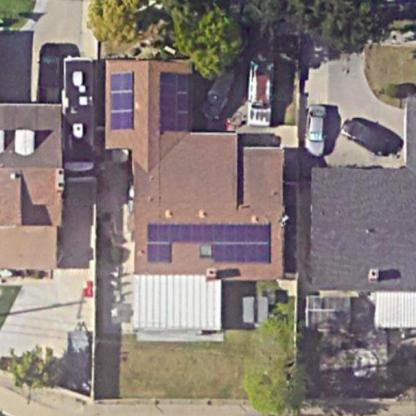car: (60, 53, 107, 175), (336, 106, 397, 159), (30, 37, 61, 104), (251, 50, 277, 128), (303, 102, 327, 159)
solar_panel: (137, 217, 277, 265), (158, 63, 197, 139), (109, 70, 140, 134)
